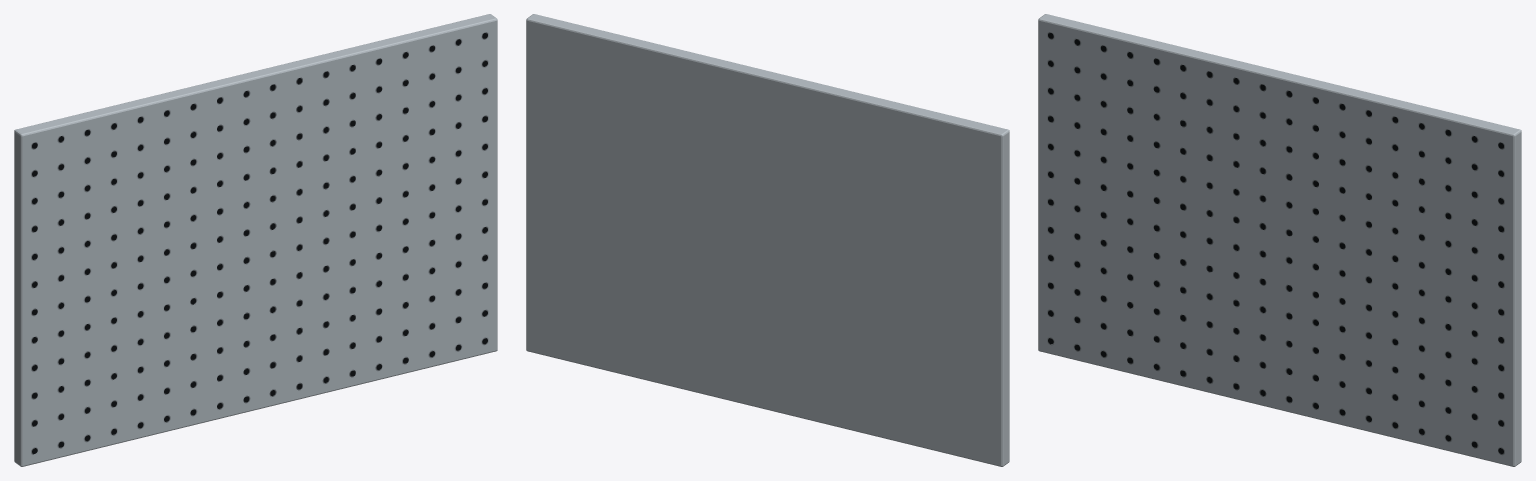
Rendered from breadboard.glb.
3 renders of one model, left to right at view 1: azimuth 30°, elevation 25°; view 2: azimuth 150°, elevation 25°; view 3: azimuth 330°, elevation 25°, orthographic.
Parts seen in each view (by area): view 1: breadboard; view 2: breadboard; view 3: breadboard.
Part boxes in pixels (x1,y1,x2,y2): breadboard: (14, 14, 497, 466); breadboard: (526, 14, 1009, 466); breadboard: (1038, 14, 1521, 466).
Size of the model in its own units: 450 by 300 by 12.7.
Materials: 2 (1 with a texture image).
